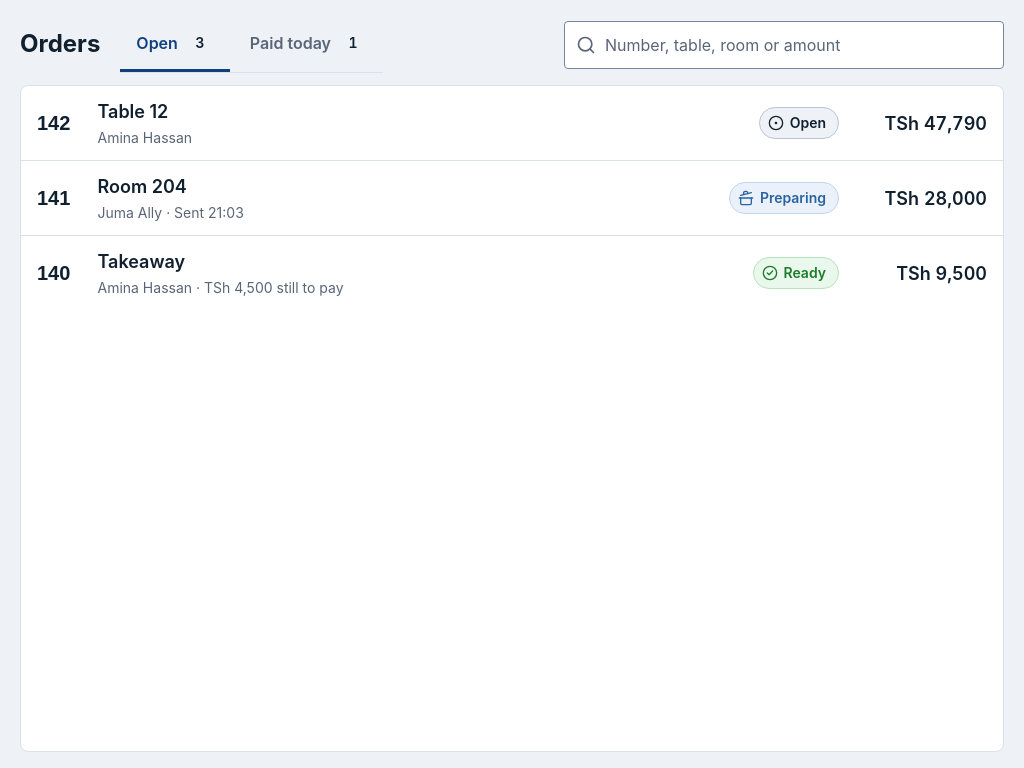
Test: OrdersView › finds orders as the search is typed, and says how many match
The width and height of the screenshot is (1024, 768).
Type "room 204" into the search field named "Find an order".
click(784, 44); type("room 204")  # box [564,20,1004,68]
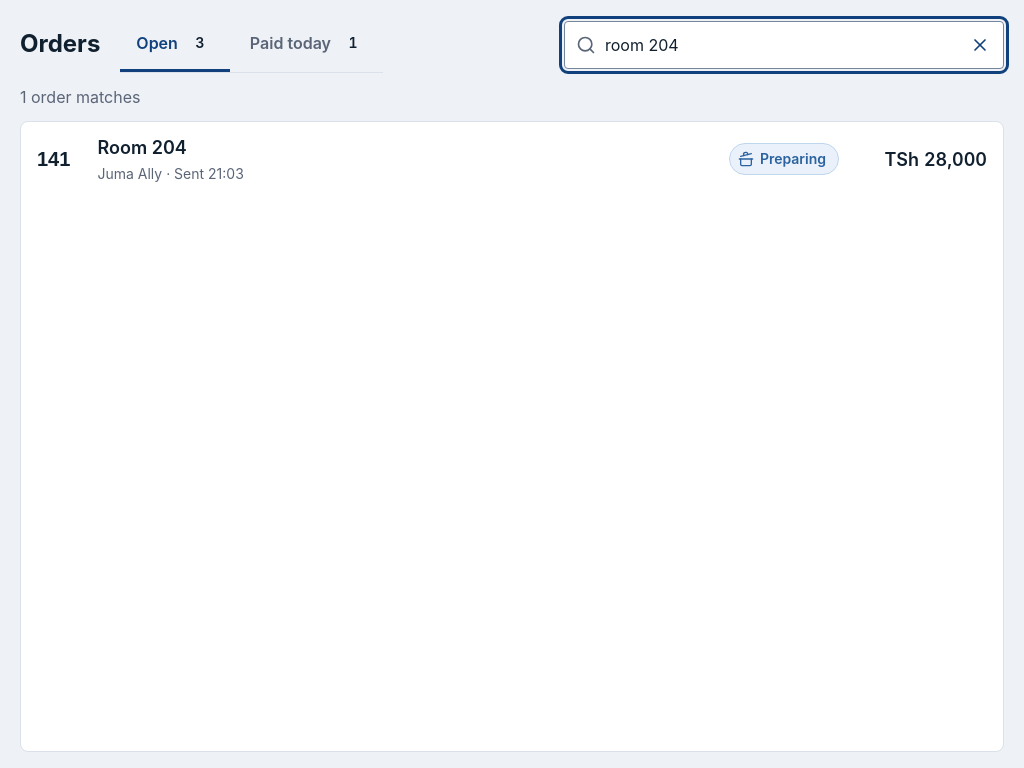
Check: the message reads "1 order matches", box [20,87,140,107]
